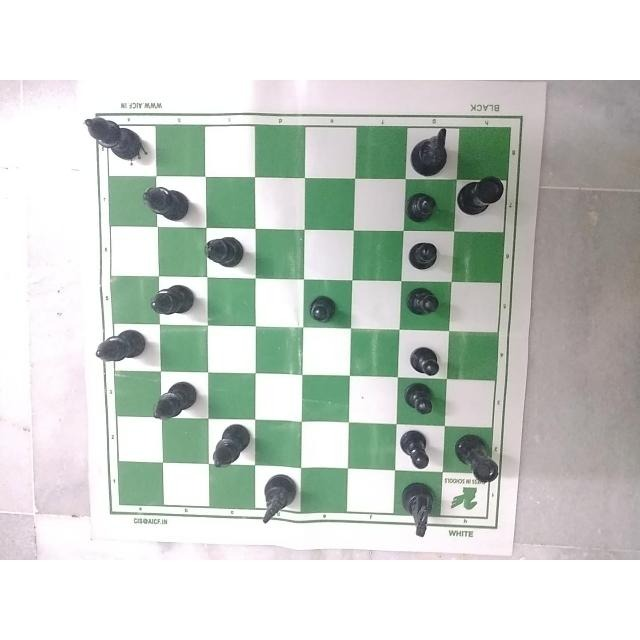black-bishop: (82, 116, 148, 172), (205, 423, 260, 476), (150, 379, 205, 431), (94, 324, 144, 376), (150, 278, 200, 326), (139, 181, 191, 219), (202, 233, 246, 269)
black-knight: (391, 479, 441, 539), (259, 466, 299, 532), (404, 117, 448, 176)
black-pawn: (385, 380, 452, 421), (393, 427, 437, 475), (398, 235, 441, 283), (292, 290, 337, 335), (400, 345, 449, 376), (402, 284, 449, 316), (403, 188, 439, 226)
black-rook: (455, 165, 515, 221), (453, 429, 499, 493)
